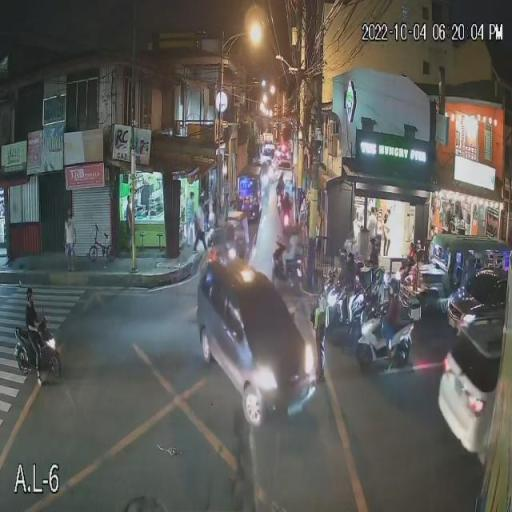helmet: (388, 277, 401, 299), (373, 267, 386, 284), (345, 254, 355, 267), (338, 248, 348, 260)
motorcycle: (356, 318, 414, 370), (13, 326, 62, 378), (348, 287, 370, 325), (324, 284, 344, 322)
rider: (25, 304, 43, 387), (384, 296, 400, 370)
